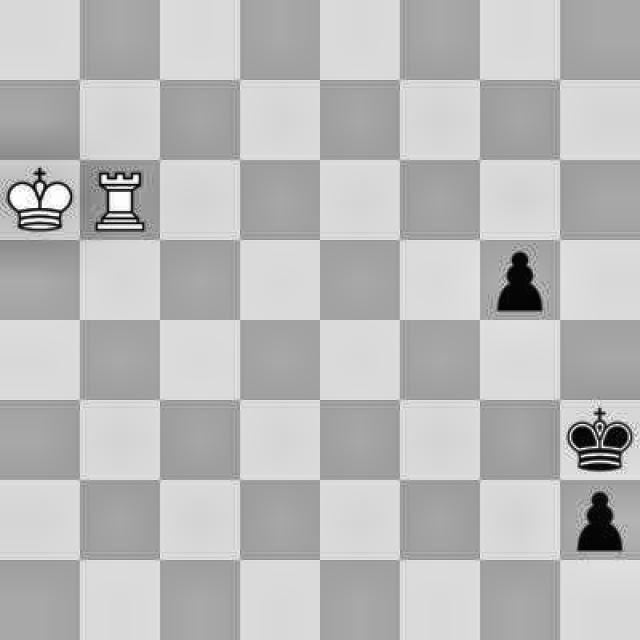black king: (560, 405, 637, 476)
black pawn: (478, 245, 562, 317), (562, 485, 638, 557)
white king: (0, 162, 72, 236)
white rook: (86, 160, 153, 237)
